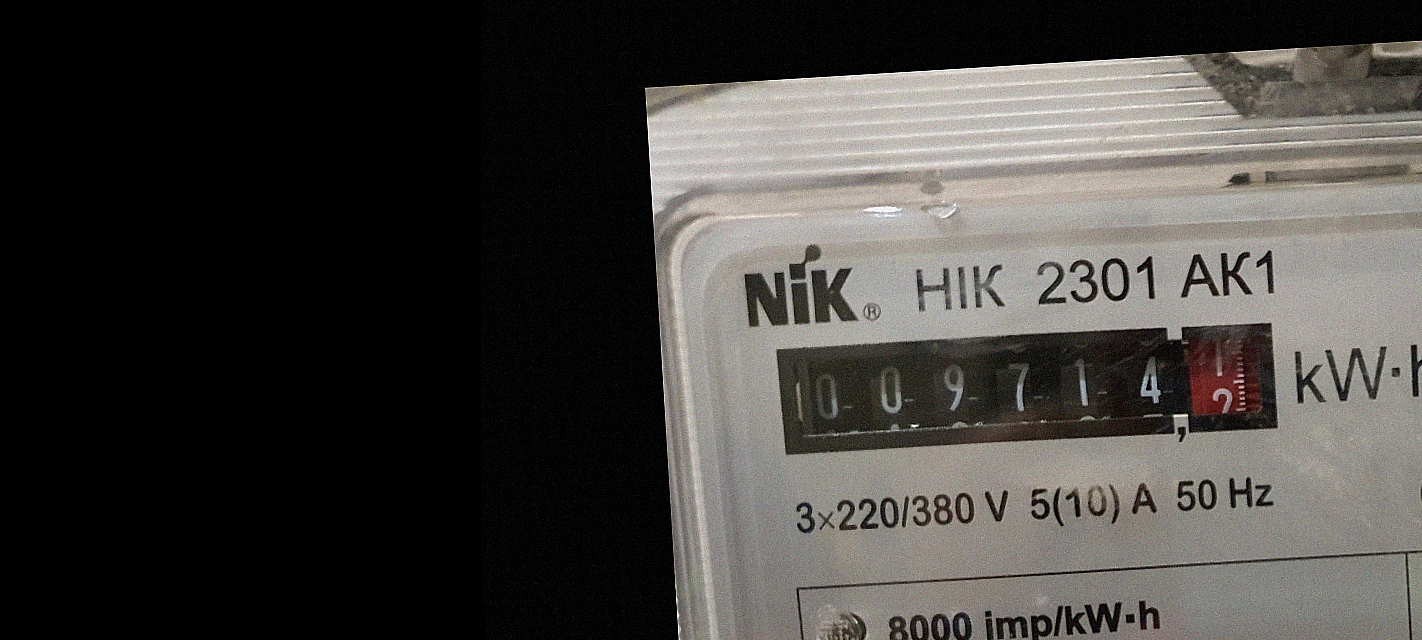0: (811, 368, 843, 423), (876, 361, 905, 416)
1: (1070, 352, 1095, 409), (1210, 336, 1227, 379)
2: (1210, 383, 1235, 415)
4: (1134, 352, 1166, 408)
7: (1005, 359, 1034, 414)
9: (938, 360, 969, 414)
screen: (761, 302, 1296, 477)
